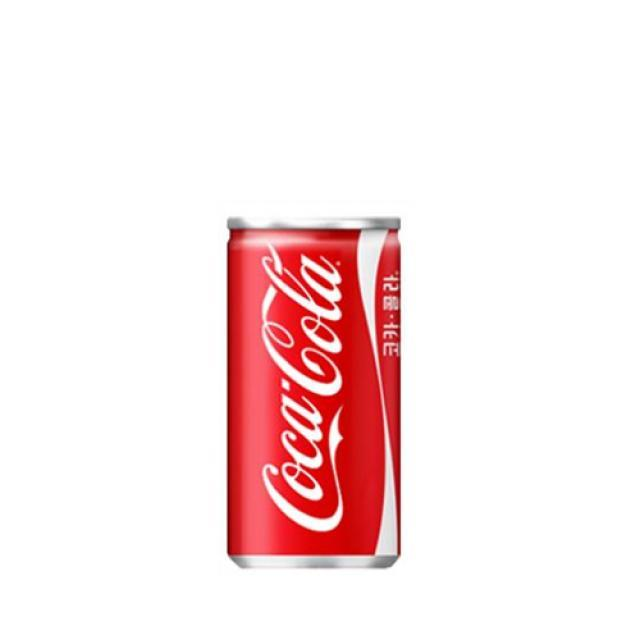coca-cola: (222, 208, 406, 572)
